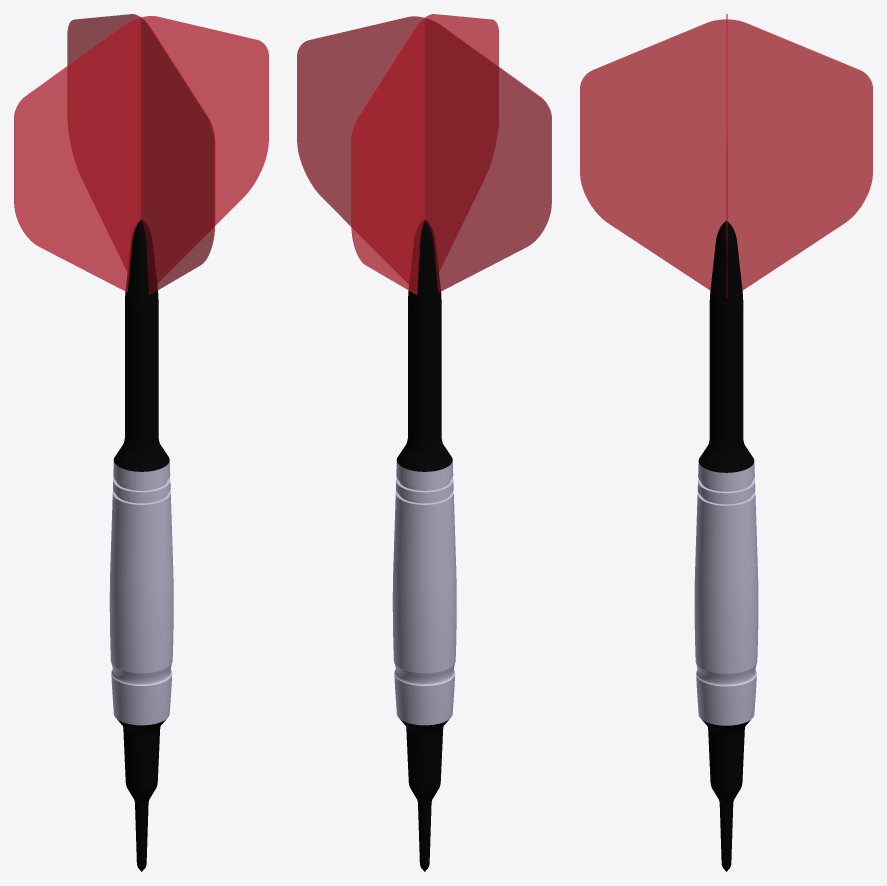
File: dart.glb
3 renders of one model, left to right at view 1: azimuth 30°, elevation 25°; view 2: azimuth 150°, elevation 25°; view 3: azimuth 270°, elevation 25°, orthographic.
Visible parts, largest first — view 1: flight1, flight2, Cylinder.001, shaft, Cylinder; view 2: flight1, flight2, Cylinder.001, shaft, Cylinder; view 3: flight2, Cylinder.001, shaft, Cylinder.
Part boxes in pixels (box(x1,y1,x2,y2)): flight1: box(14, 16, 268, 292); flight2: box(67, 14, 215, 295); Cylinder.001: box(109, 461, 173, 725); shaft: box(113, 219, 169, 471); Cylinder: box(117, 719, 166, 871); flight1: box(297, 16, 551, 292); flight2: box(351, 14, 498, 294); Cylinder.001: box(392, 461, 456, 725); shaft: box(396, 220, 452, 471); Cylinder: box(400, 719, 449, 871); flight2: box(580, 19, 872, 290); Cylinder.001: box(694, 463, 758, 725); shaft: box(698, 221, 754, 472); Cylinder: box(702, 720, 750, 871).
Size of the model in its own units: 0.042 by 0.1348 by 0.042.
